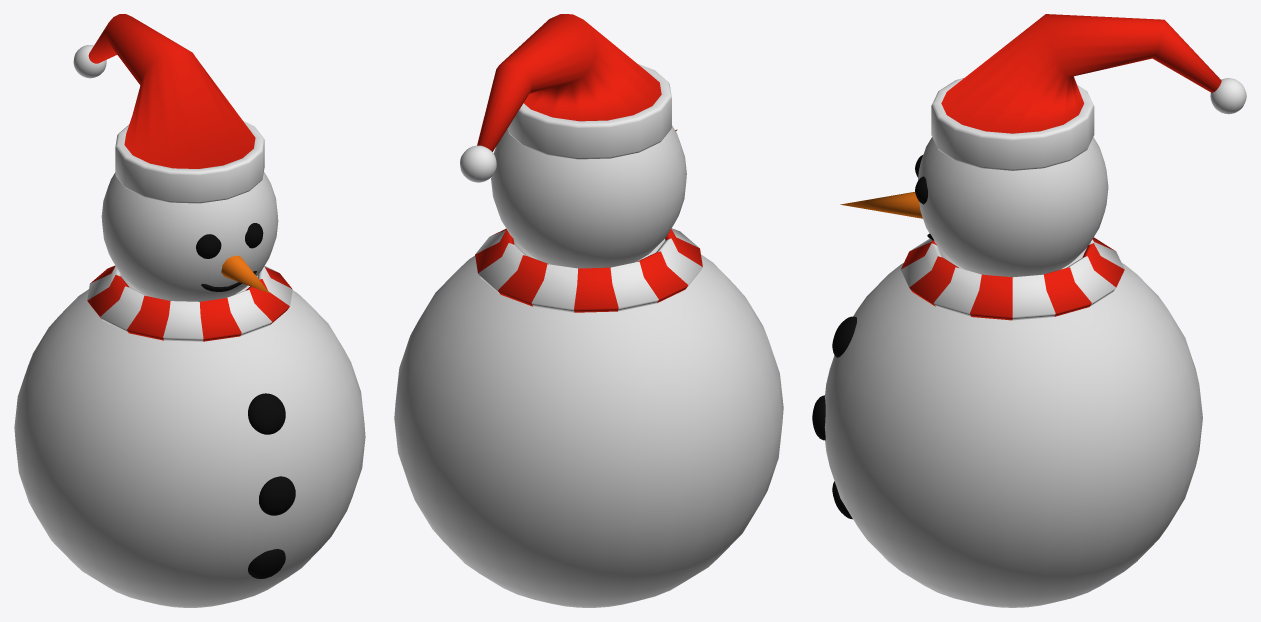
File: snowman.glb
3 views of the same model, side by side, from view 1: azimuth 30°, elevation 25°; view 2: azimuth 150°, elevation 25°; view 3: azimuth 270°, elevation 25° (orthographic). The views are drawn at different scales.
Visible parts, largest first — view 1: Sphere_1; view 2: Sphere_1; view 3: Sphere_1.
Part boxes in pixels (x1,y1,x2,y2): Sphere_1: [14, 14, 365, 607]; Sphere_1: [394, 14, 783, 607]; Sphere_1: [812, 14, 1246, 607].
Bounding box in the file's own units: 2 × 3.32 × 2.28.
